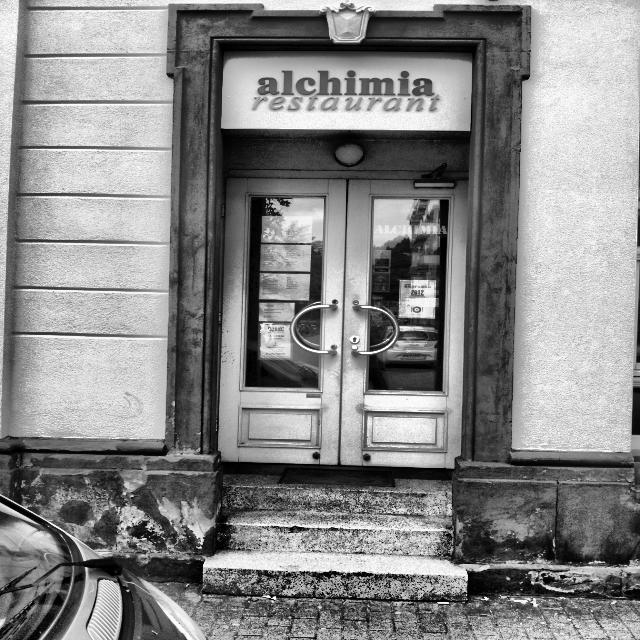escada: (188, 472, 468, 603)
